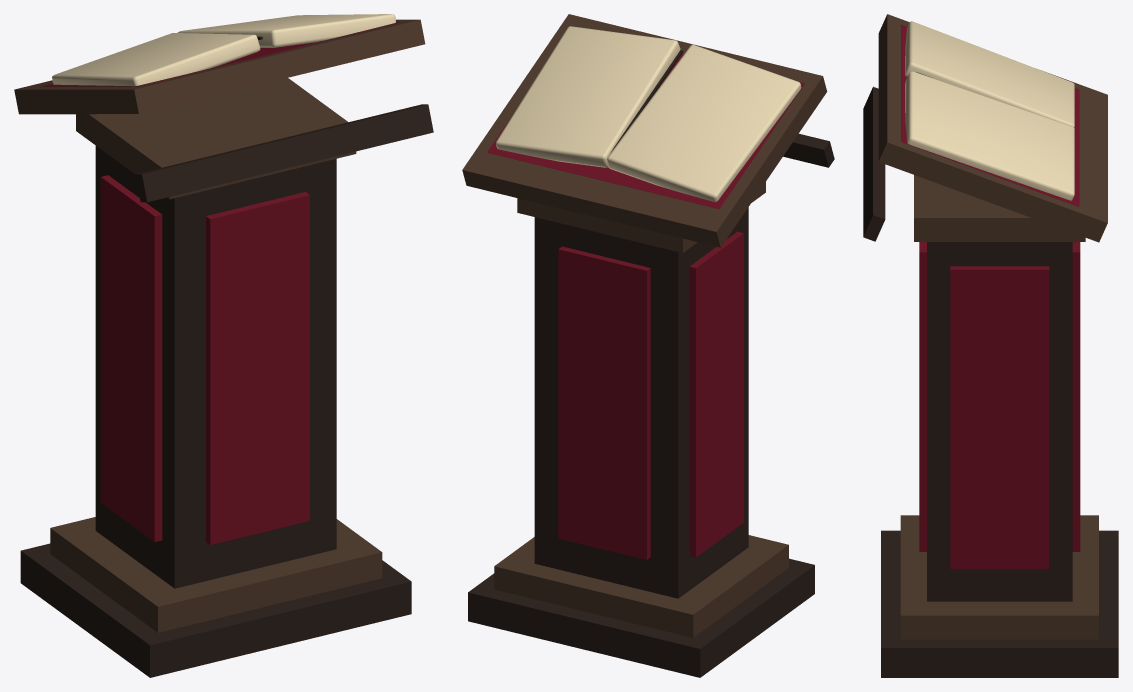
Rendered from lectern.glb.
3 renders of one model, left to right at view 1: azimuth 30°, elevation 25°; view 2: azimuth 150°, elevation 25°; view 3: azimuth 270°, elevation 25°, orthographic. The views are drawn at different scales.
Visible parts, largest first — view 1: lectern; view 2: lectern; view 3: lectern.
Boxes of the visible parts, x1,y1,x2,y2 form: lectern: (14, 14, 433, 677); lectern: (462, 14, 834, 677); lectern: (863, 14, 1118, 677).
Size of the model in its own units: 0.46 by 0.9223 by 0.3868.
